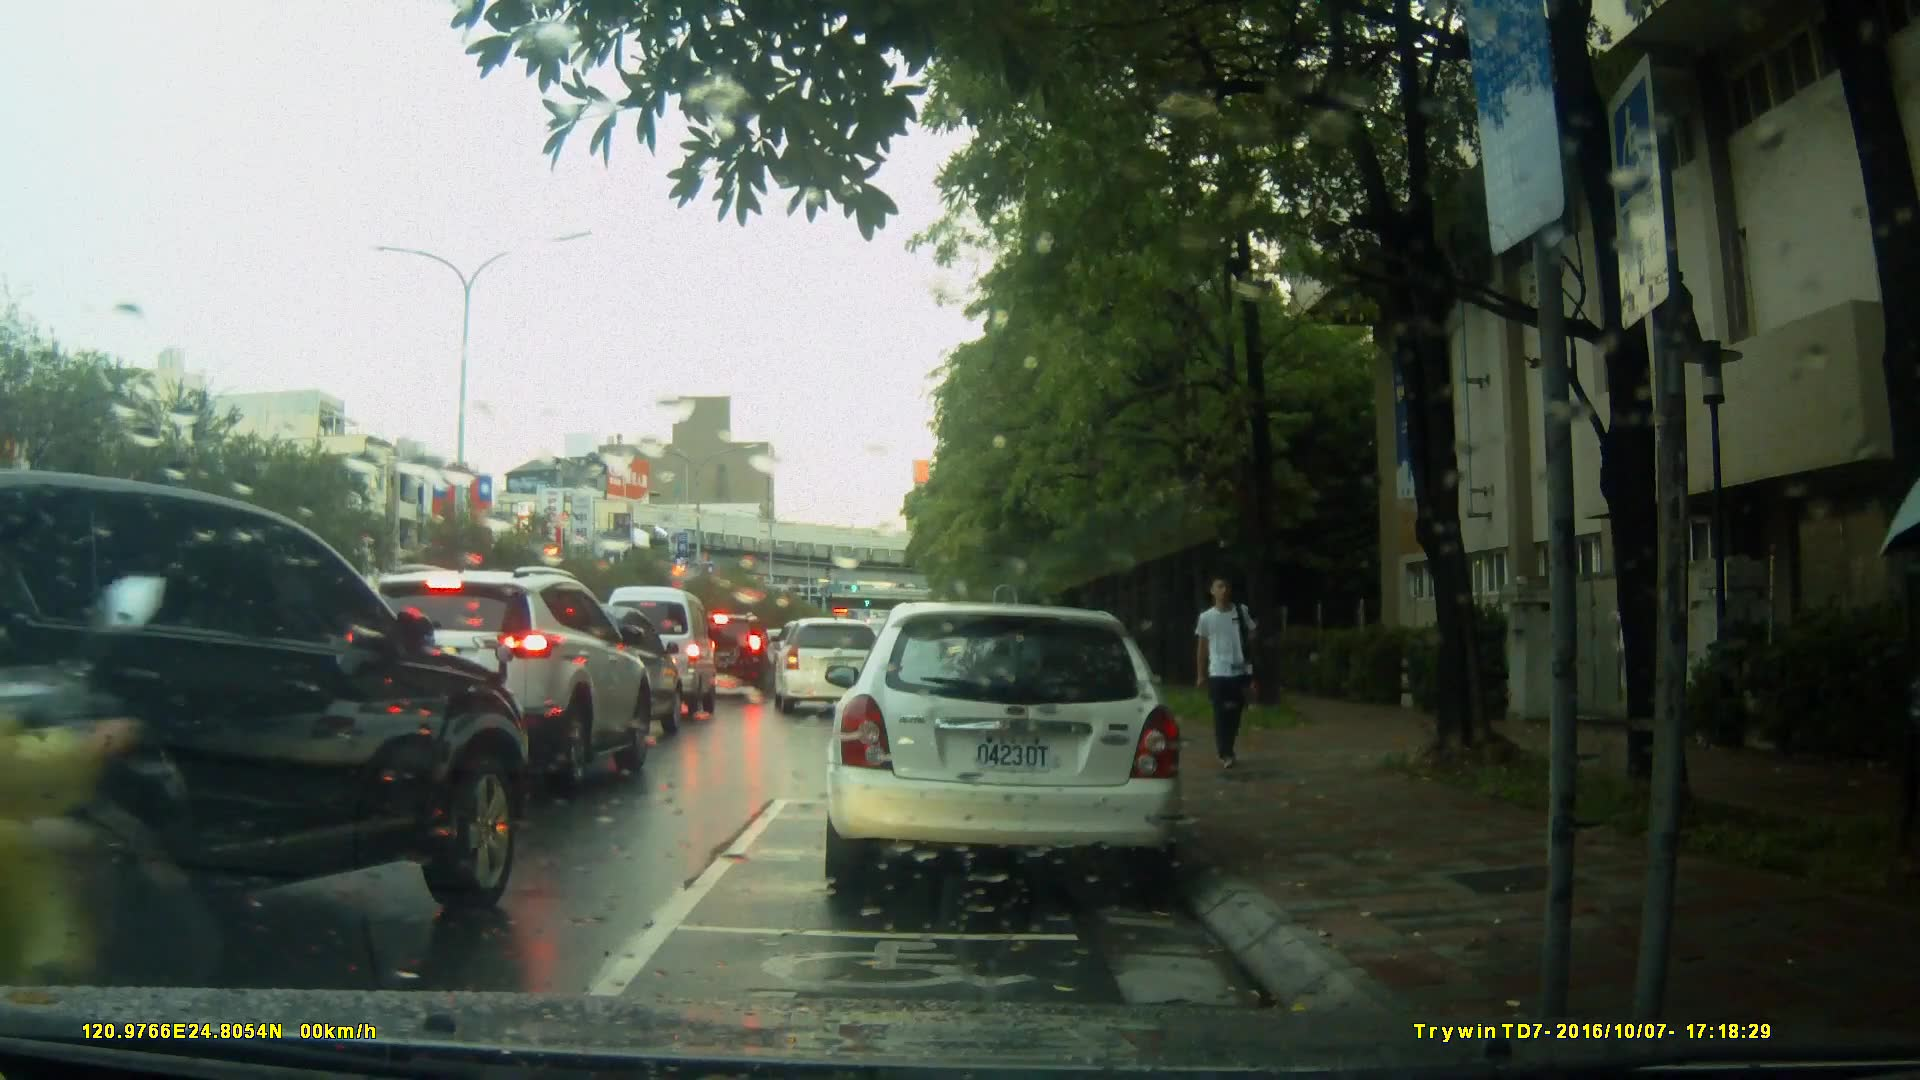pedestrian: (1190, 567, 1269, 786)
vehicle: (1, 469, 532, 988), (820, 602, 1188, 898), (339, 563, 659, 791), (530, 603, 691, 737), (598, 585, 722, 722), (772, 617, 890, 715), (679, 611, 774, 702)
